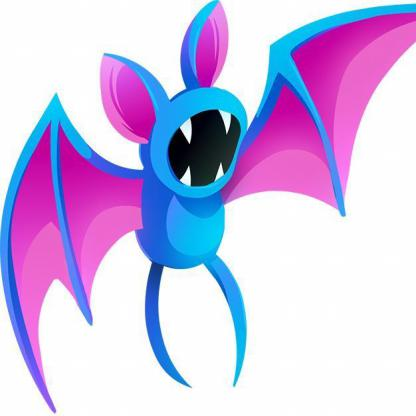Zubat: (8, 1, 416, 416)
